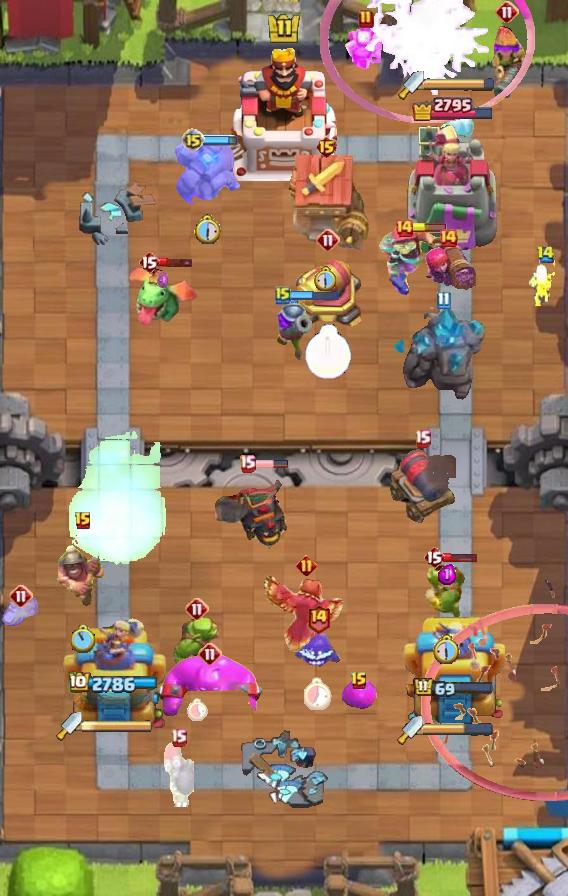archer-evolution: (214, 465, 300, 551)
bandit: (54, 532, 112, 610)
bar: (406, 122, 500, 256), (401, 611, 505, 731), (61, 615, 166, 731)
barbarian-evolution: (320, 0, 535, 124)
bat: (439, 114, 481, 148)
bomb-tower: (486, 22, 528, 102), (274, 295, 312, 361)
cannoneer-tower: (399, 307, 487, 405)
clone: (154, 654, 266, 720)
electro-spirit: (438, 563, 456, 585), (157, 272, 170, 288)
electro-wizard: (124, 264, 202, 326)
elixir: (304, 324, 352, 380), (304, 678, 332, 711), (193, 214, 221, 245), (433, 634, 461, 665), (71, 625, 96, 653), (314, 266, 338, 292), (186, 699, 208, 722)
emote: (288, 289, 340, 302), (202, 134, 238, 146), (158, 256, 194, 268), (442, 551, 477, 563), (411, 223, 447, 233), (253, 459, 289, 469)
fireball: (376, 224, 458, 298)
flying-machine: (169, 614, 225, 672), (424, 562, 470, 618)
giant-snowball: (343, 25, 389, 73)
golden-knight: (263, 570, 349, 652)
heal-spirit: (529, 260, 561, 306)
ice-golem: (162, 741, 194, 807)
ice-spirit-evolution: (2, 597, 40, 627)
king-tower: (231, 45, 337, 181)
king-tower-bar: (424, 77, 496, 91), (82, 719, 154, 733), (423, 723, 493, 737)
mega-knight: (64, 430, 167, 567)
mega-minion: (420, 239, 476, 301)
miner: (341, 681, 377, 711)
royal-giant-evolution: (388, 449, 456, 523)
royal-recruit: (289, 256, 367, 332)
selected: (411, 95, 495, 121), (68, 672, 159, 696), (414, 677, 495, 699)
skeleton-barrel: (420, 580, 567, 803)
sparky: (283, 154, 369, 252)
spear-goblin: (294, 632, 342, 672)
text: (305, 602, 330, 633), (495, 0, 519, 24), (181, 128, 205, 152), (316, 228, 340, 252), (9, 584, 33, 608), (185, 597, 209, 621), (198, 642, 222, 666), (315, 135, 338, 159), (138, 250, 160, 274), (423, 545, 445, 569), (295, 555, 316, 576), (394, 218, 414, 238), (438, 228, 458, 248), (74, 511, 92, 531), (350, 671, 368, 691), (537, 245, 556, 263), (414, 428, 431, 447), (169, 729, 186, 748), (358, 9, 374, 29), (275, 285, 291, 305), (240, 455, 257, 473), (437, 290, 451, 309)
valkyrie-evolution: (172, 136, 242, 204)
